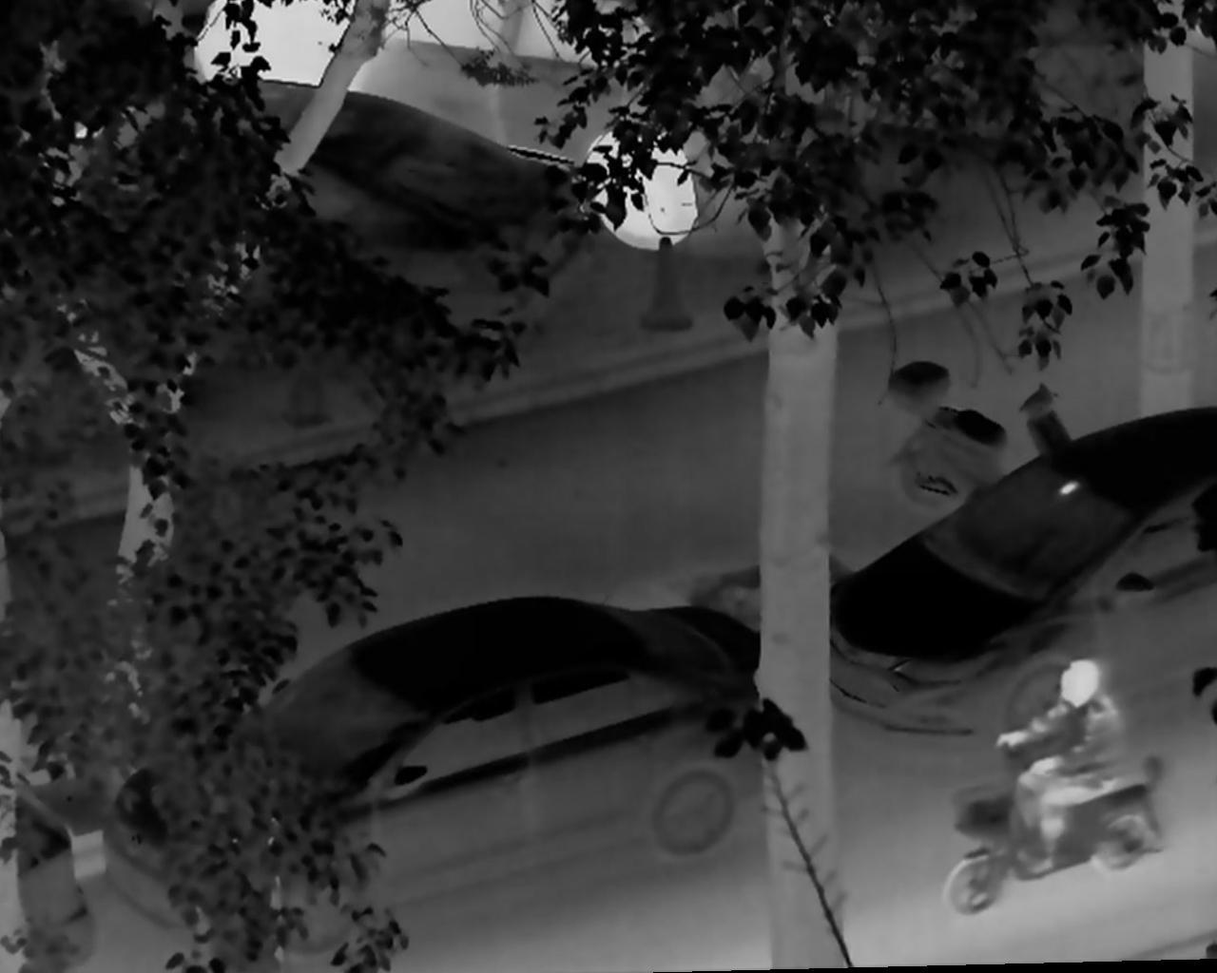person: (999, 651, 1130, 877)
